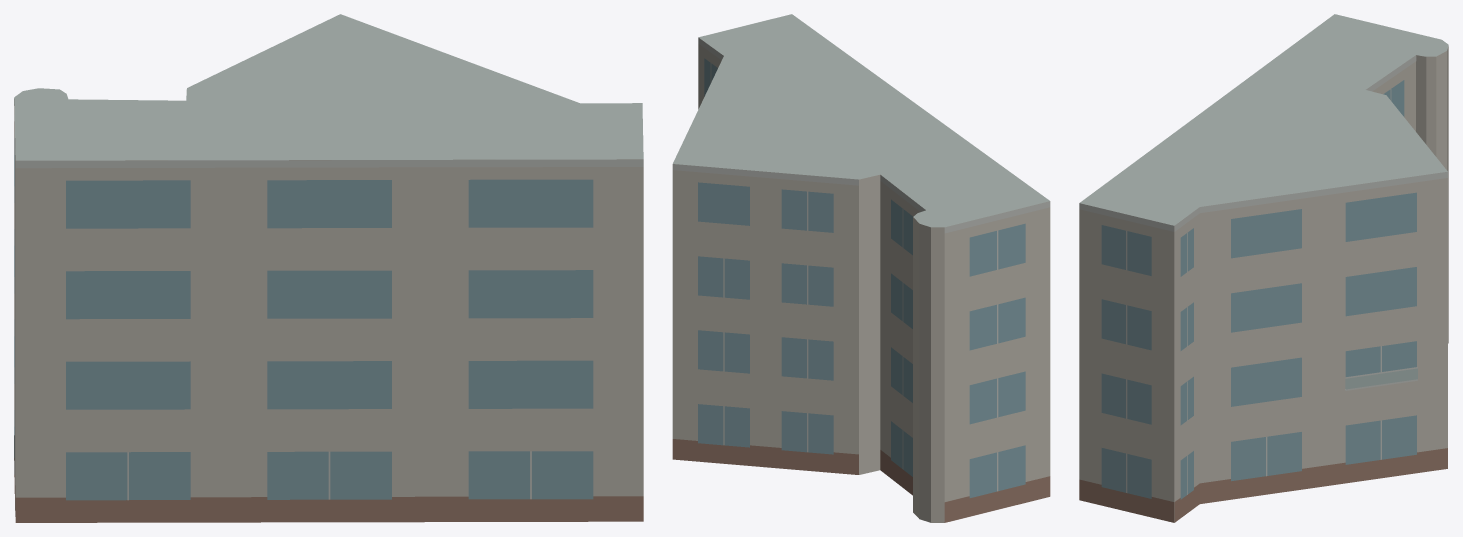
Rendered from survey-upis-32807497.glb.
3 views of the same model, side by side, from view 1: azimuth 30°, elevation 25°; view 2: azimuth 150°, elevation 25°; view 3: azimuth 270°, elevation 25° (orthographic). The views are drawn at different scales.
Visible parts, largest first — view 1: survey-upis-32807497.tmp; view 2: survey-upis-32807497.tmp; view 3: survey-upis-32807497.tmp.
Boxes of the visible parts, x1=… form: survey-upis-32807497.tmp: x1=14, y1=14, x2=643, y2=522; survey-upis-32807497.tmp: x1=672, y1=14, x2=1050, y2=522; survey-upis-32807497.tmp: x1=1079, y1=14, x2=1448, y2=522.
Size of the model in its own units: 17.9 by 11.7 by 13.19.
